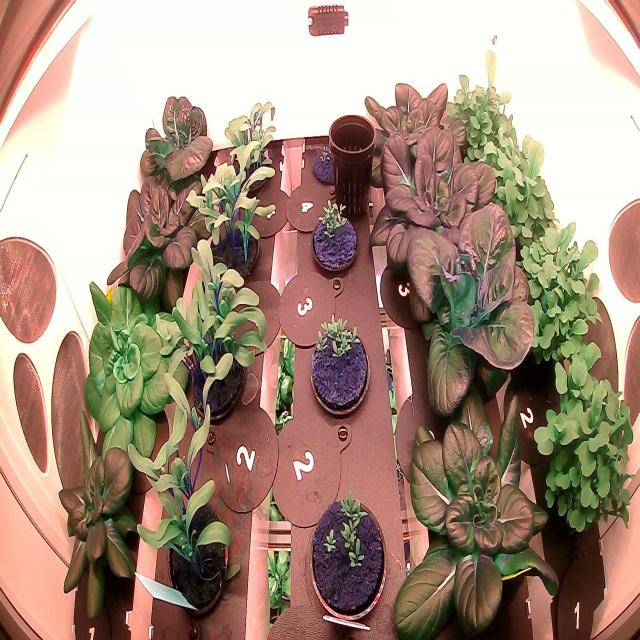germination: (302, 483, 391, 630), (305, 308, 378, 429), (307, 192, 365, 288), (308, 128, 354, 189)
young: (388, 359, 570, 640), (394, 188, 546, 444), (366, 111, 507, 280), (53, 406, 154, 632), (76, 268, 190, 464), (101, 147, 225, 319), (358, 66, 474, 192), (130, 75, 218, 199), (274, 397, 284, 404)
